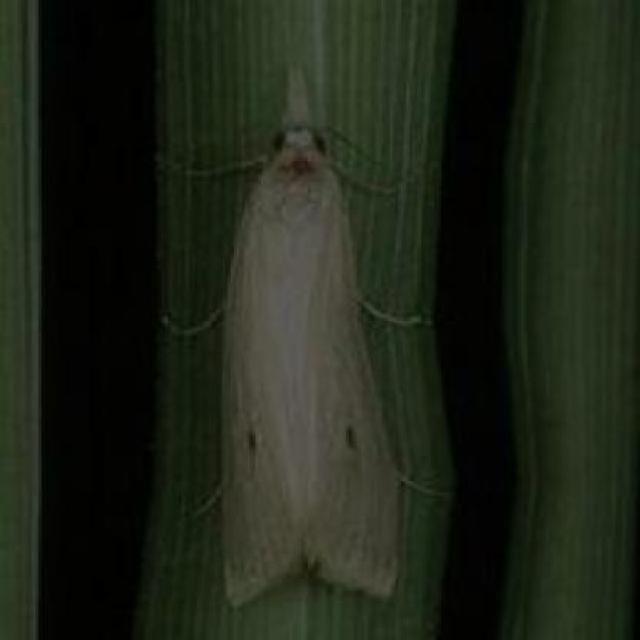stem-borer: (168, 60, 426, 609)
